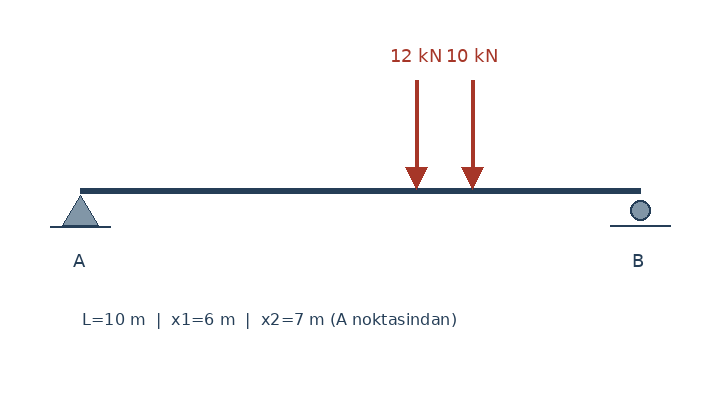pin_support: (61, 190, 99, 226)
point_load: (402, 76, 430, 190), (458, 76, 486, 190)
roller_support: (625, 196, 655, 227)
